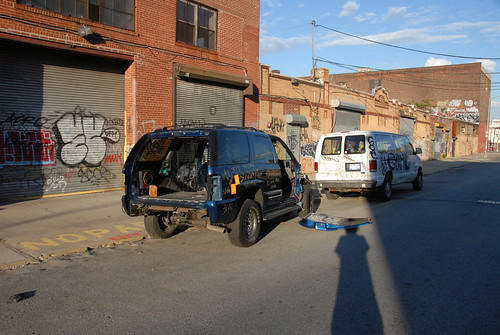building: (1, 1, 262, 174), (263, 60, 488, 165)
car: (116, 108, 337, 235)
graffiti: (1, 98, 125, 187), (378, 151, 416, 177)
street: (1, 167, 496, 335)
van: (309, 120, 429, 200)
